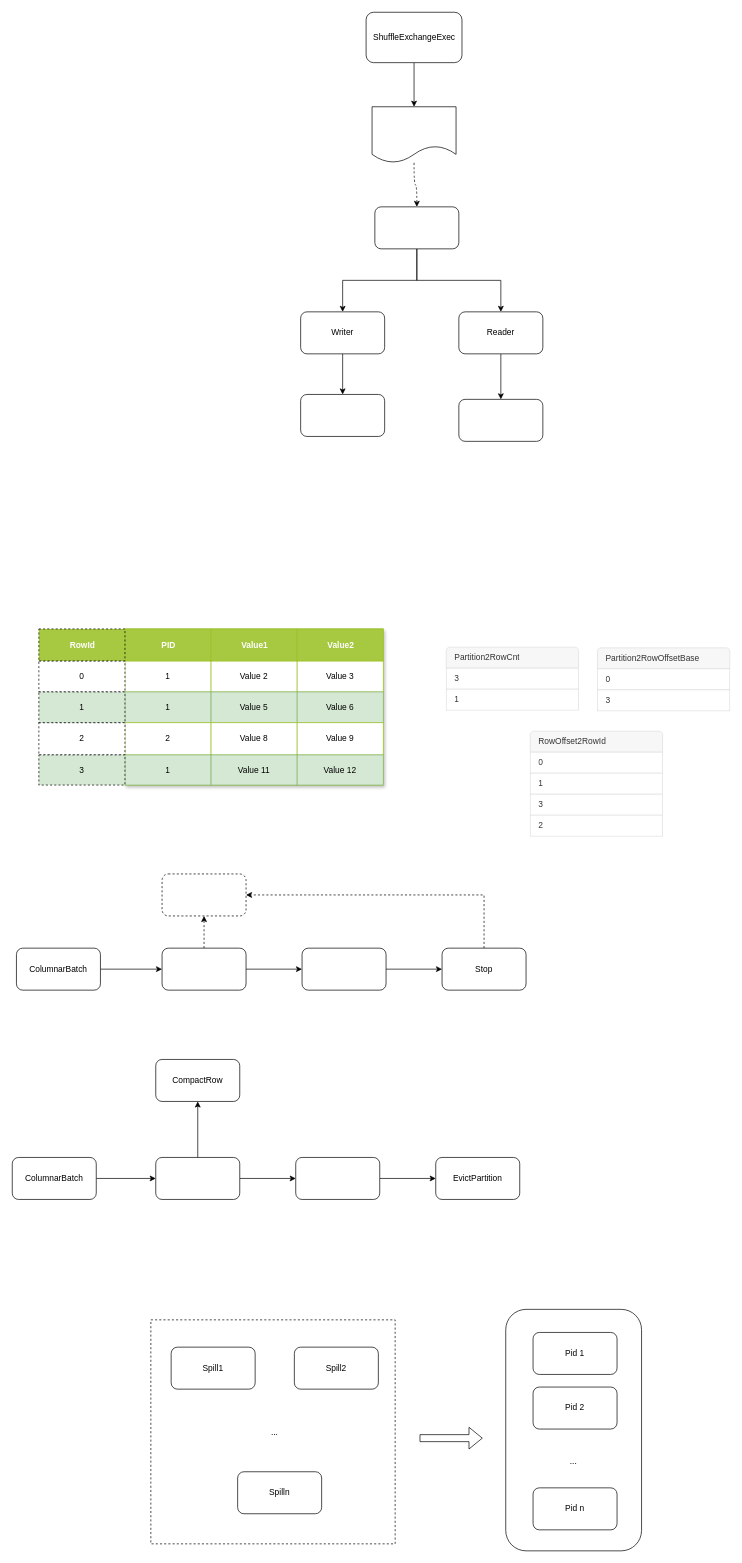
This 742x1563 diagram has some shape labels left out. Here are the shapes that lost their labels. From the top down, the centre of each, then its label:
the point at 413,134: ShuffleDependency
the point at 416,227: ShuffleManager
the point at 342,415: NativeWriter
the point at 500,420: NativeReader
the point at 203,894: EvictPartitionBuffer
the point at 203,968: PreAllocateBuffer
the point at 343,968: DoSplit
the point at 197,1178: ArrayPtr
the point at 337,1178: Sort/RadixSort
